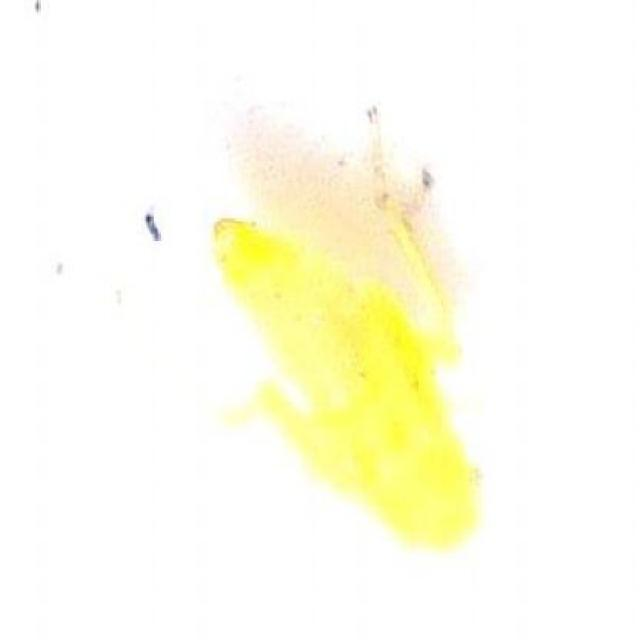green-leafhopper: (217, 206, 489, 551)
